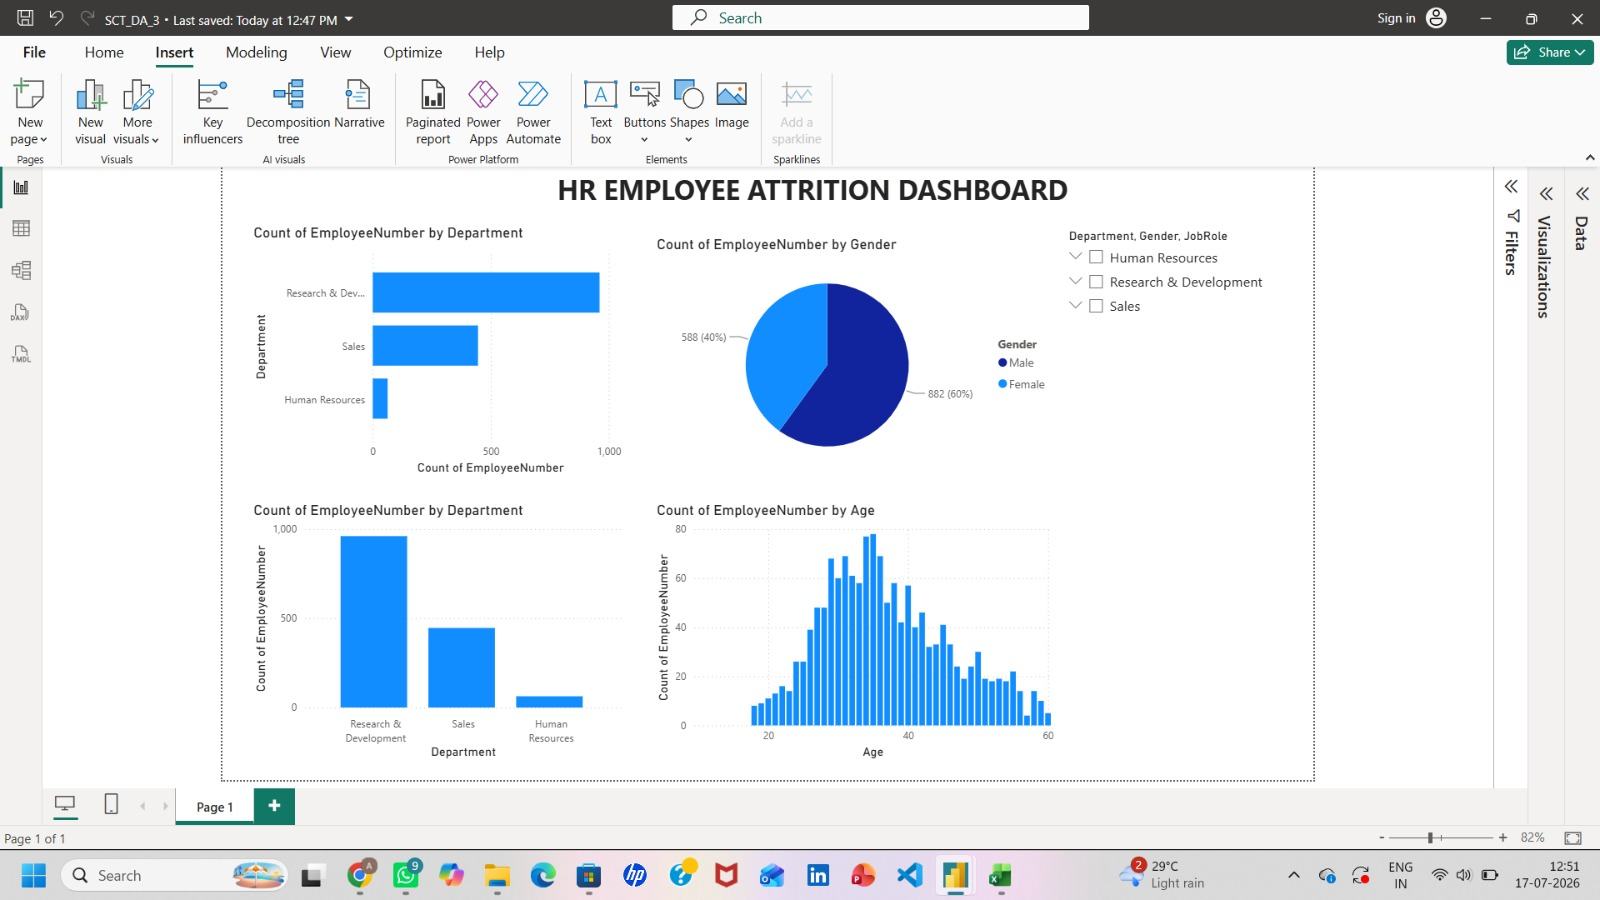

The page's visual inventory and layout, read from the dashboard file:
{"tool":"powerbi","page":{"name":"Page 1","canvas":[1280,720],"ordinal":0},"visuals":[{"type":"clusteredColumnChart","fields":{"Y":["Count(WA_Fn-UseC_-HR-Employee-Attrition (2).EmployeeNumber)"],"Category":["WA_Fn-UseC_-HR-Employee-Attrition (2).Department"]},"box":[31.6,392.5,441.9,307.4],"z":0},{"type":"pieChart","fields":{"Category":["WA_Fn-UseC_-HR-Employee-Attrition (2).Gender"],"Y":["CountNonNull(WA_Fn-UseC_-HR-Employee-Attrition (2).EmployeeNumber)"]},"box":[505,81,476.2,285.4],"z":1},{"type":"clusteredColumnChart","fields":{"Category":["WA_Fn-UseC_-HR-Employee-Attrition (2).Age"],"Y":["CountNonNull(WA_Fn-UseC_-HR-Employee-Attrition (2).EmployeeNumber)"]},"box":[505,392.5,476.2,307.4],"z":3},{"type":"clusteredBarChart","fields":{"Category":["WA_Fn-UseC_-HR-Employee-Attrition.Department"],"Y":["CountNonNull(WA_Fn-UseC_-HR-Employee-Attrition.EmployeeNumber)"]},"box":[31.6,67.2,441.9,299.1],"z":4},{"type":"textbox","box":[182.5,0,1020.9,56.3],"z":5},{"type":"slicer","fields":{"Values":["WA_Fn-UseC_-HR-Employee-Attrition (2).Department","WA_Fn-UseC_-HR-Employee-Attrition (2).Gender","WA_Fn-UseC_-HR-Employee-Attrition (2).JobRole"]},"box":[981.1,67.2,299.1,299.1],"z":6}]}

Visuals, with their boxes on the page's 1280x720 design canvas (x1, y1, x2, y2). These are canvas units, not pixel positions in the 1600x900 screenshot, which may show the page scaled, cropped or inside an application window:
clusteredColumnChart - Count(WA_Fn-UseC_-HR-Employee-Attrition (2).EmployeeNumber) x WA_Fn-UseC_-HR-Employee-Attrition (2).Department: left=32, top=392, right=474, bottom=700
pieChart - WA_Fn-UseC_-HR-Employee-Attrition (2).Gender x CountNonNull(WA_Fn-UseC_-HR-Employee-Attrition (2).EmployeeNumber): left=505, top=81, right=981, bottom=366
clusteredColumnChart - WA_Fn-UseC_-HR-Employee-Attrition (2).Age x CountNonNull(WA_Fn-UseC_-HR-Employee-Attrition (2).EmployeeNumber): left=505, top=392, right=981, bottom=700
clusteredBarChart - WA_Fn-UseC_-HR-Employee-Attrition.Department x CountNonNull(WA_Fn-UseC_-HR-Employee-Attrition.EmployeeNumber): left=32, top=67, right=474, bottom=366
textbox: left=182, top=0, right=1203, bottom=56
slicer - WA_Fn-UseC_-HR-Employee-Attrition (2).Department x WA_Fn-UseC_-HR-Employee-Attrition (2).Gender: left=981, top=67, right=1280, bottom=366
